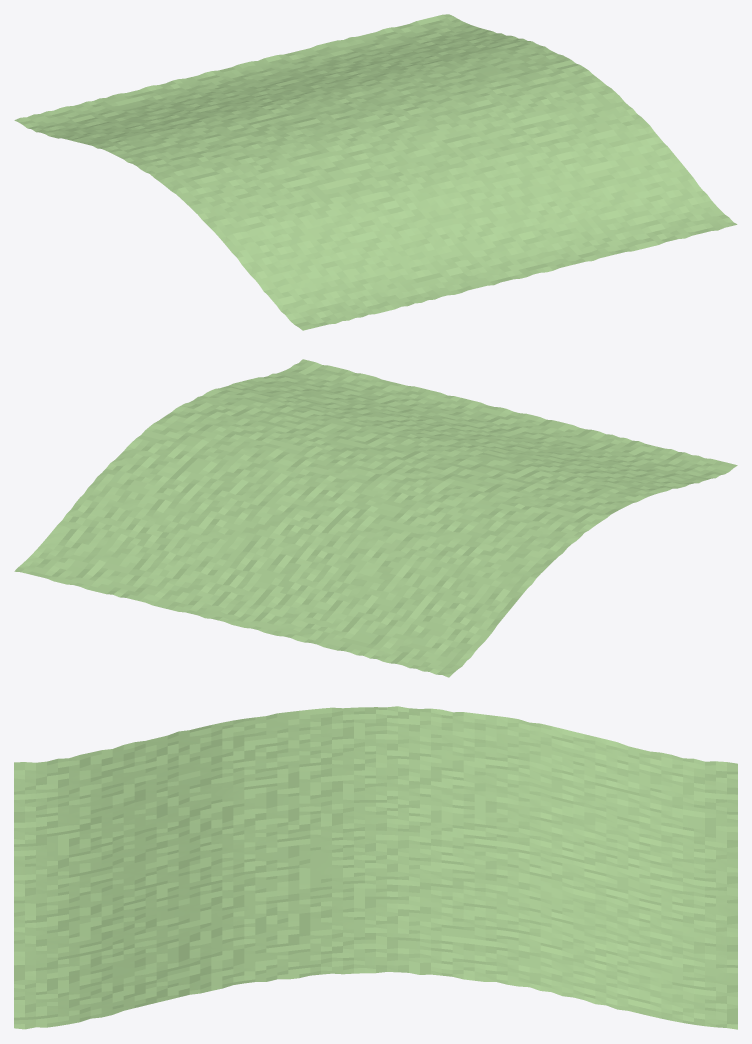
File: PlaneSphere.fbx
The picture shows the model from 3 angles, top to bottom: view 1: azimuth 30°, elevation 25°; view 2: azimuth 150°, elevation 25°; view 3: azimuth 270°, elevation 25°; orthographic projection. The views are drawn at different scales.
Visible parts, largest first — view 1: Plane__3_; view 2: Plane__3_; view 3: Plane__3_.
Boxes of the visible parts, x1,y1,x2,y2 form: Plane__3_: [14, 14, 737, 330]; Plane__3_: [14, 359, 737, 677]; Plane__3_: [14, 706, 737, 1029].
Size of the model in its own units: 25789 by 2618 by 29660.
